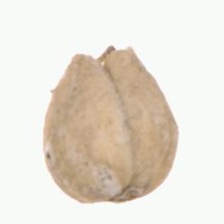L1: (67, 43, 135, 78), (88, 185, 156, 204)
L2: (42, 44, 179, 205)
